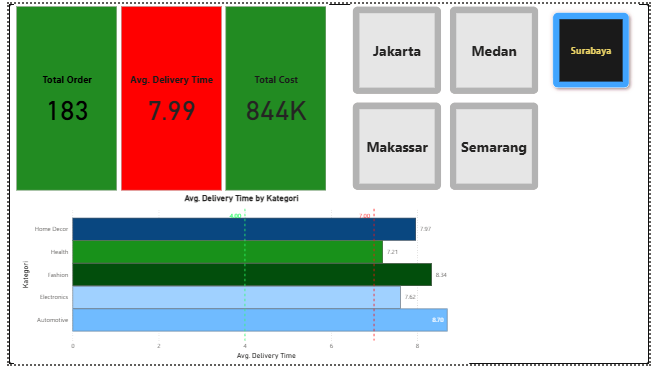

The dashboard page shown, as its layout file describes it:
{"tool":"powerbi","page":{"name":"Page 1","canvas":[1280,720],"ordinal":0},"visuals":[{"type":"cardVisual","fields":{"Data":["Count(supply_chain_cleaned_final.Order_ID)","Avg(supply_chain_cleaned_final.Lead_Time_Days)","Sum(supply_chain_cleaned_final.Shipping_Cost)"]},"box":[10,0,630,378],"z":0},{"type":"clusteredBarChart","title":"Avg. Delivery Time by Kategori","fields":{"Category":["supply_chain_cleaned_final.Product_Category"],"Y":["Avg(supply_chain_cleaned_final.Lead_Time_Days)"]},"box":[10,376.7,910,343.3],"z":1000},{"type":"advancedSlicerVisual","fields":{"Values":["supply_chain_cleaned_final.Warehouse_Location"]},"box":[682.5,0,577.5,377.5],"z":2000}]}

Visuals, with their boxes in screenshot pixels (x1, y1, x2, y2), scaled from the page's 1280x720 canvas onto the 656x375 screenshot:
cardVisual - Count(supply_chain_cleaned_final.Order_ID) x Avg(supply_chain_cleaned_final.Lead_Time_Days): crop(5, 0, 328, 197)
"Avg. Delivery Time by Kategori" clusteredBarChart: crop(5, 196, 471, 374)
advancedSlicerVisual - supply_chain_cleaned_final.Warehouse_Location: crop(350, 0, 646, 197)
